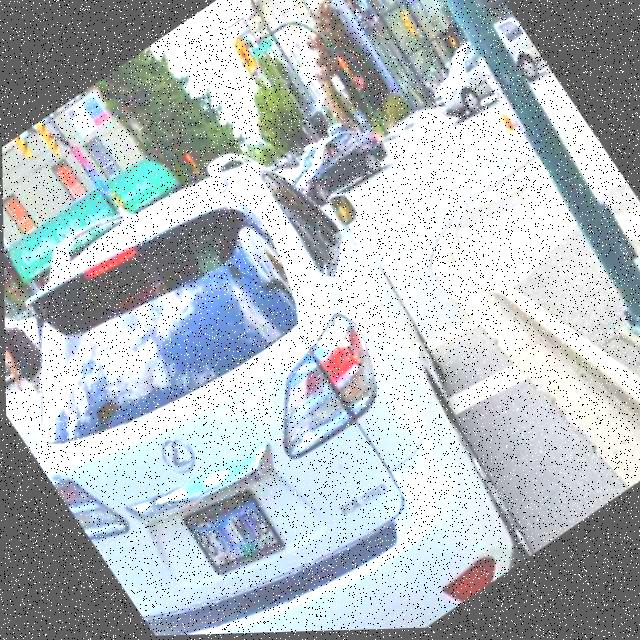license_plate: (178, 476, 288, 590)
